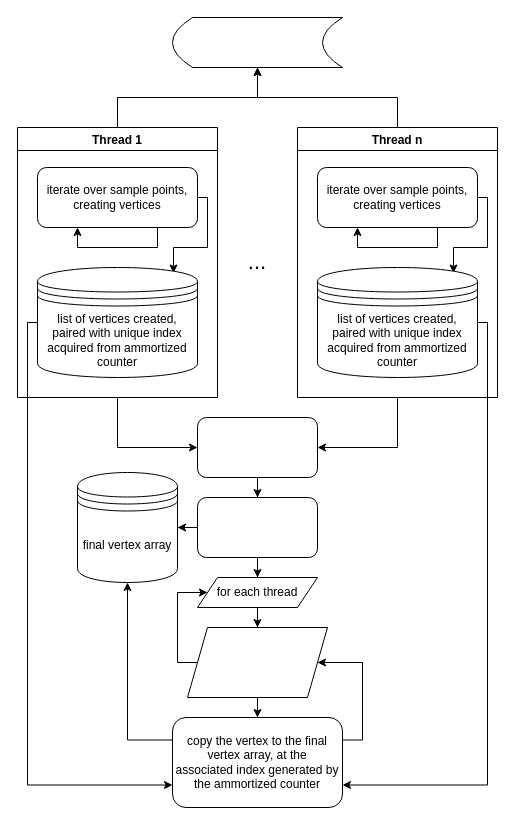
Image size: 515x825. Some labels were removed from this diagram. Each missing label, with the centre of its shape:
"allocate array sized to hold all created vertices" belongs at [257,527].
"ammortized integer variable" belongs at [257,42].
"for each vertex,index pair in the thread's output array" belongs at [257,662].
"wait until all threads are finished" belongs at [257,447].
